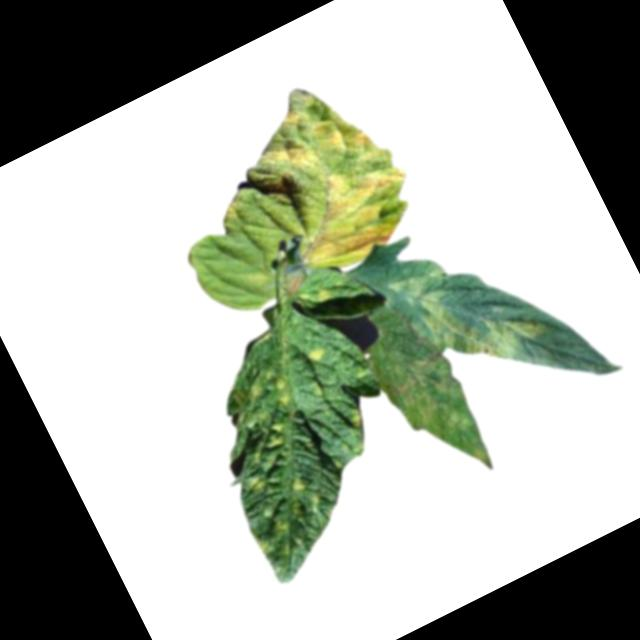Leaf_Mold: (182, 58, 433, 309), (188, 360, 368, 587), (387, 230, 550, 394), (376, 343, 499, 496), (306, 342, 329, 366), (314, 285, 336, 306)
